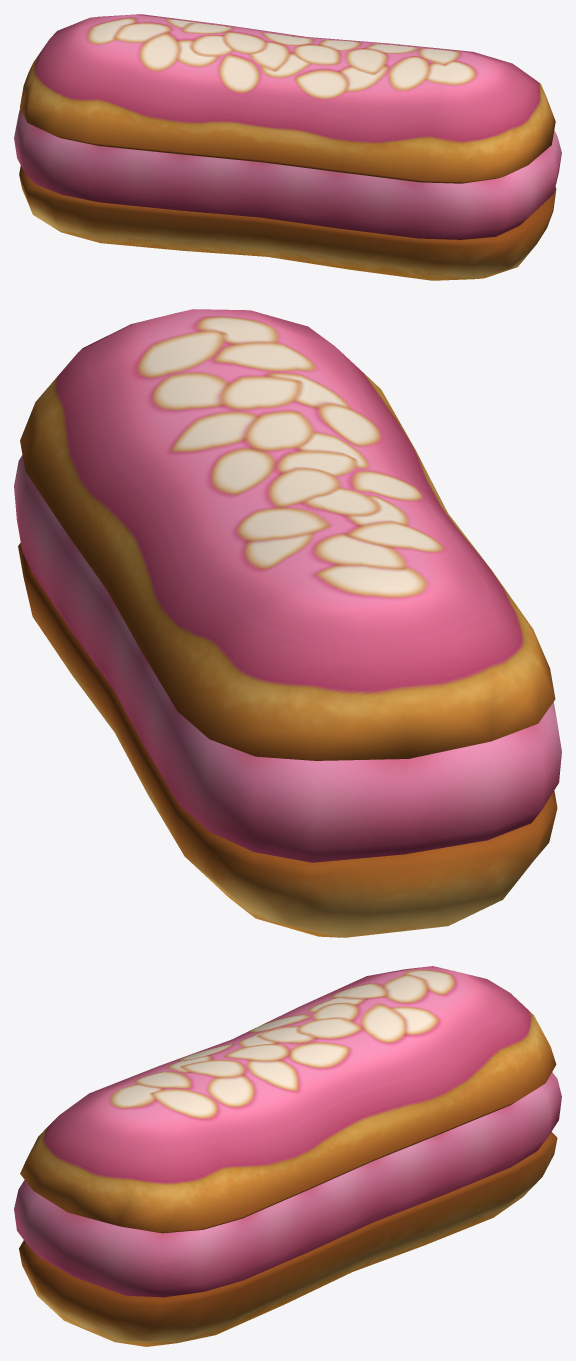
Rendered from 009-Eclairs_03.FBX.
3 views of the same model, one above another, from view 1: azimuth 30°, elevation 25°; view 2: azimuth 150°, elevation 25°; view 3: azimuth 270°, elevation 25° (orthographic). The views are drawn at different scales.
Parts seen in each view (by area): view 1: 009-Eclairs_03; view 2: 009-Eclairs_03; view 3: 009-Eclairs_03.
Part boxes in pixels (x1,y1,x2,y2): 009-Eclairs_03: (14,14,561,280); 009-Eclairs_03: (14,309,561,937); 009-Eclairs_03: (14,966,561,1346).
Size of the model in its own units: 17.69 by 8.01 by 17.69.
